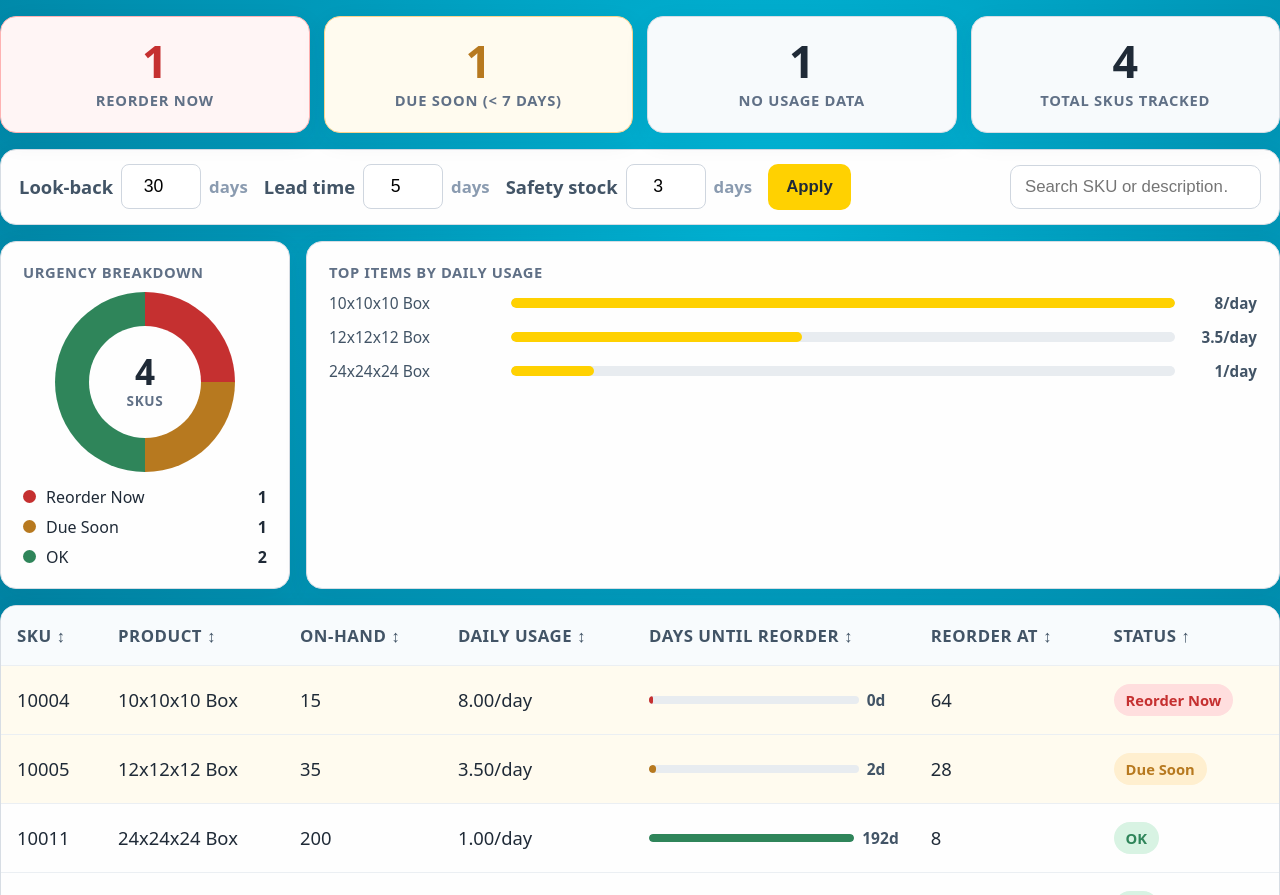
Test: shows empty state when search matches nothing
In the search field with placeholder "Search SKU or description…": point(1136, 187) [1010,165,1261,209], type "zzznomatch"
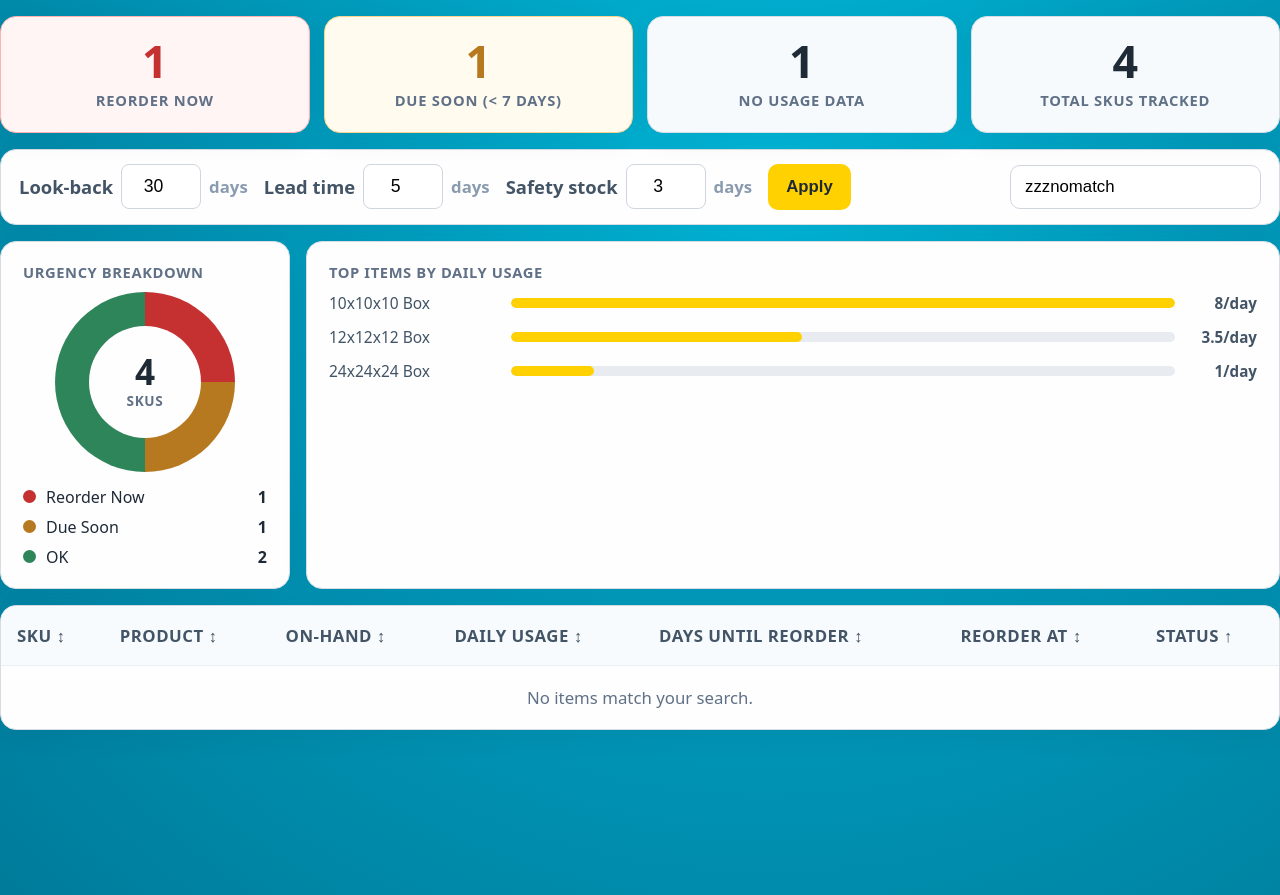
Result: the text "No items match your search." is shown at [527,686,753,709]
